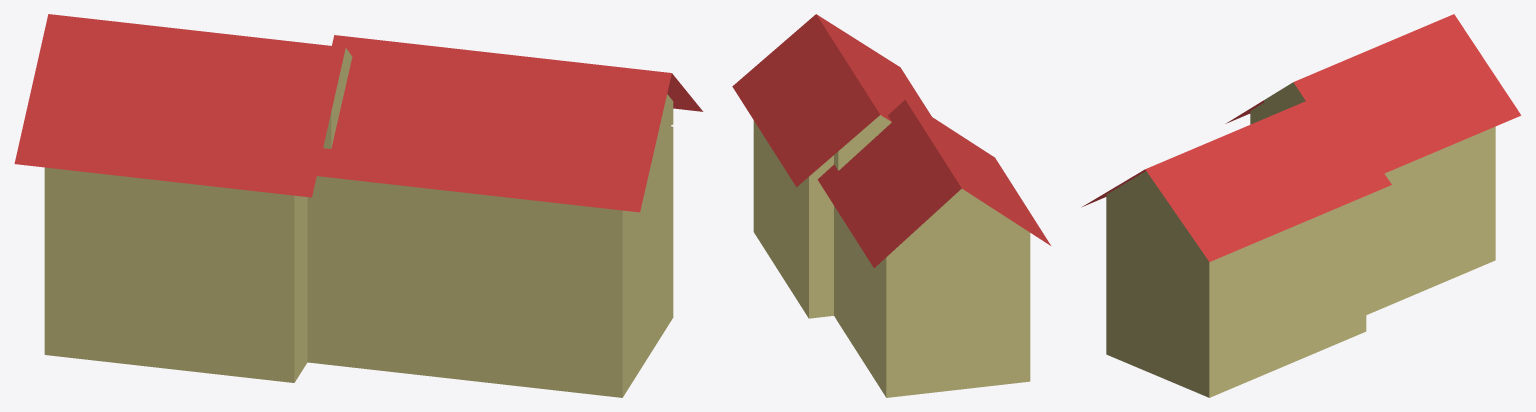
3 renders of one model, left to right at view 1: azimuth 30°, elevation 25°; view 2: azimuth 150°, elevation 25°; view 3: azimuth 270°, elevation 25°, orthographic. The views are drawn at different scales.
Size of the model in its own units: 26.7 by 24.17 by 13.19.
